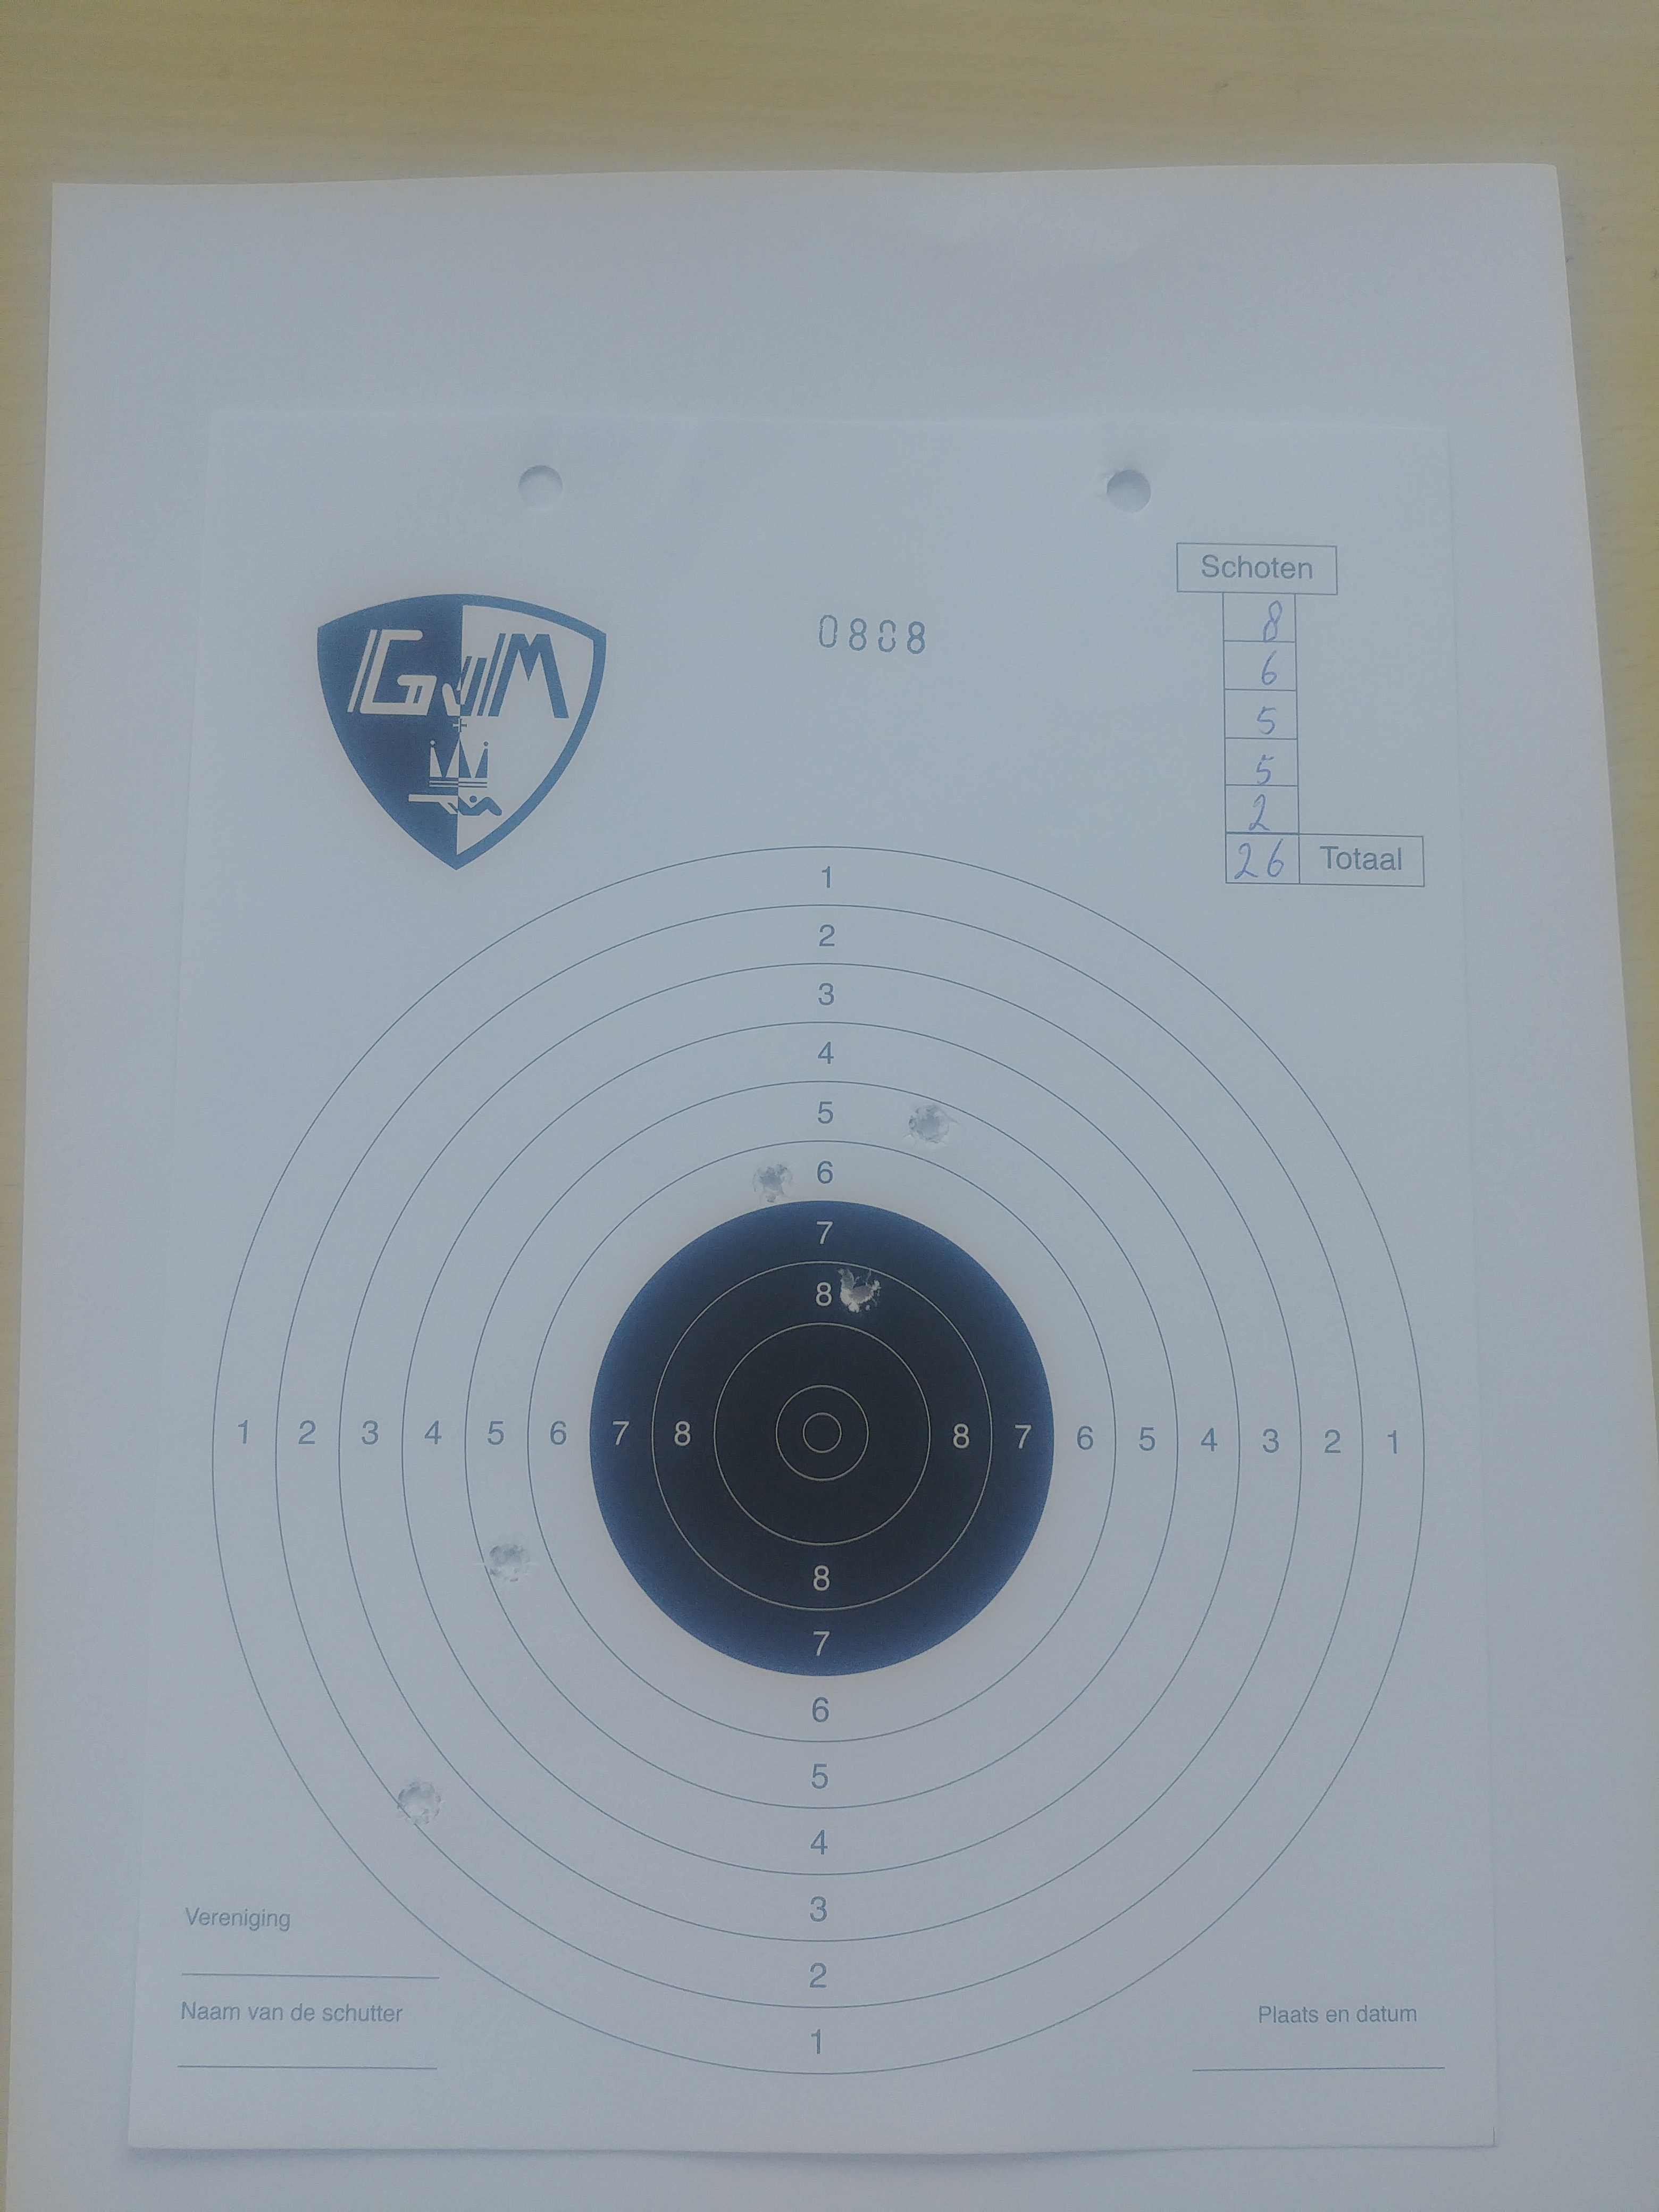center: (587, 1198, 1056, 1677)
out: (211, 845, 1425, 2074)
shot: (833, 1266, 884, 1315), (481, 1540, 533, 1585), (396, 1778, 444, 1825), (906, 1101, 953, 1148), (755, 1160, 796, 1209)
target: (775, 1386, 870, 1480)
